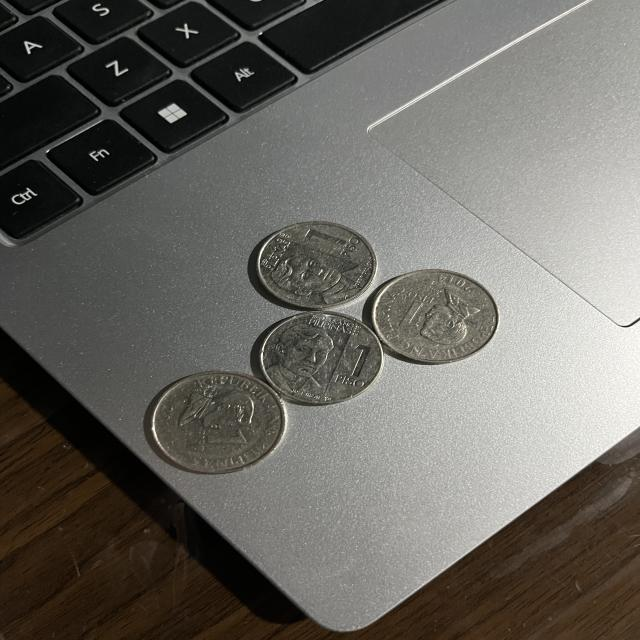1_New_Front: (269, 320, 372, 390), (265, 224, 362, 296)
1_Old_Front: (170, 384, 256, 454), (394, 286, 487, 345)
